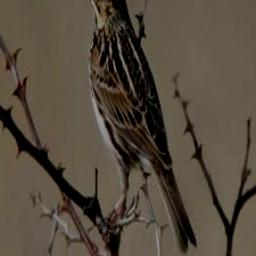Sparrow: (73, 0, 201, 256)
